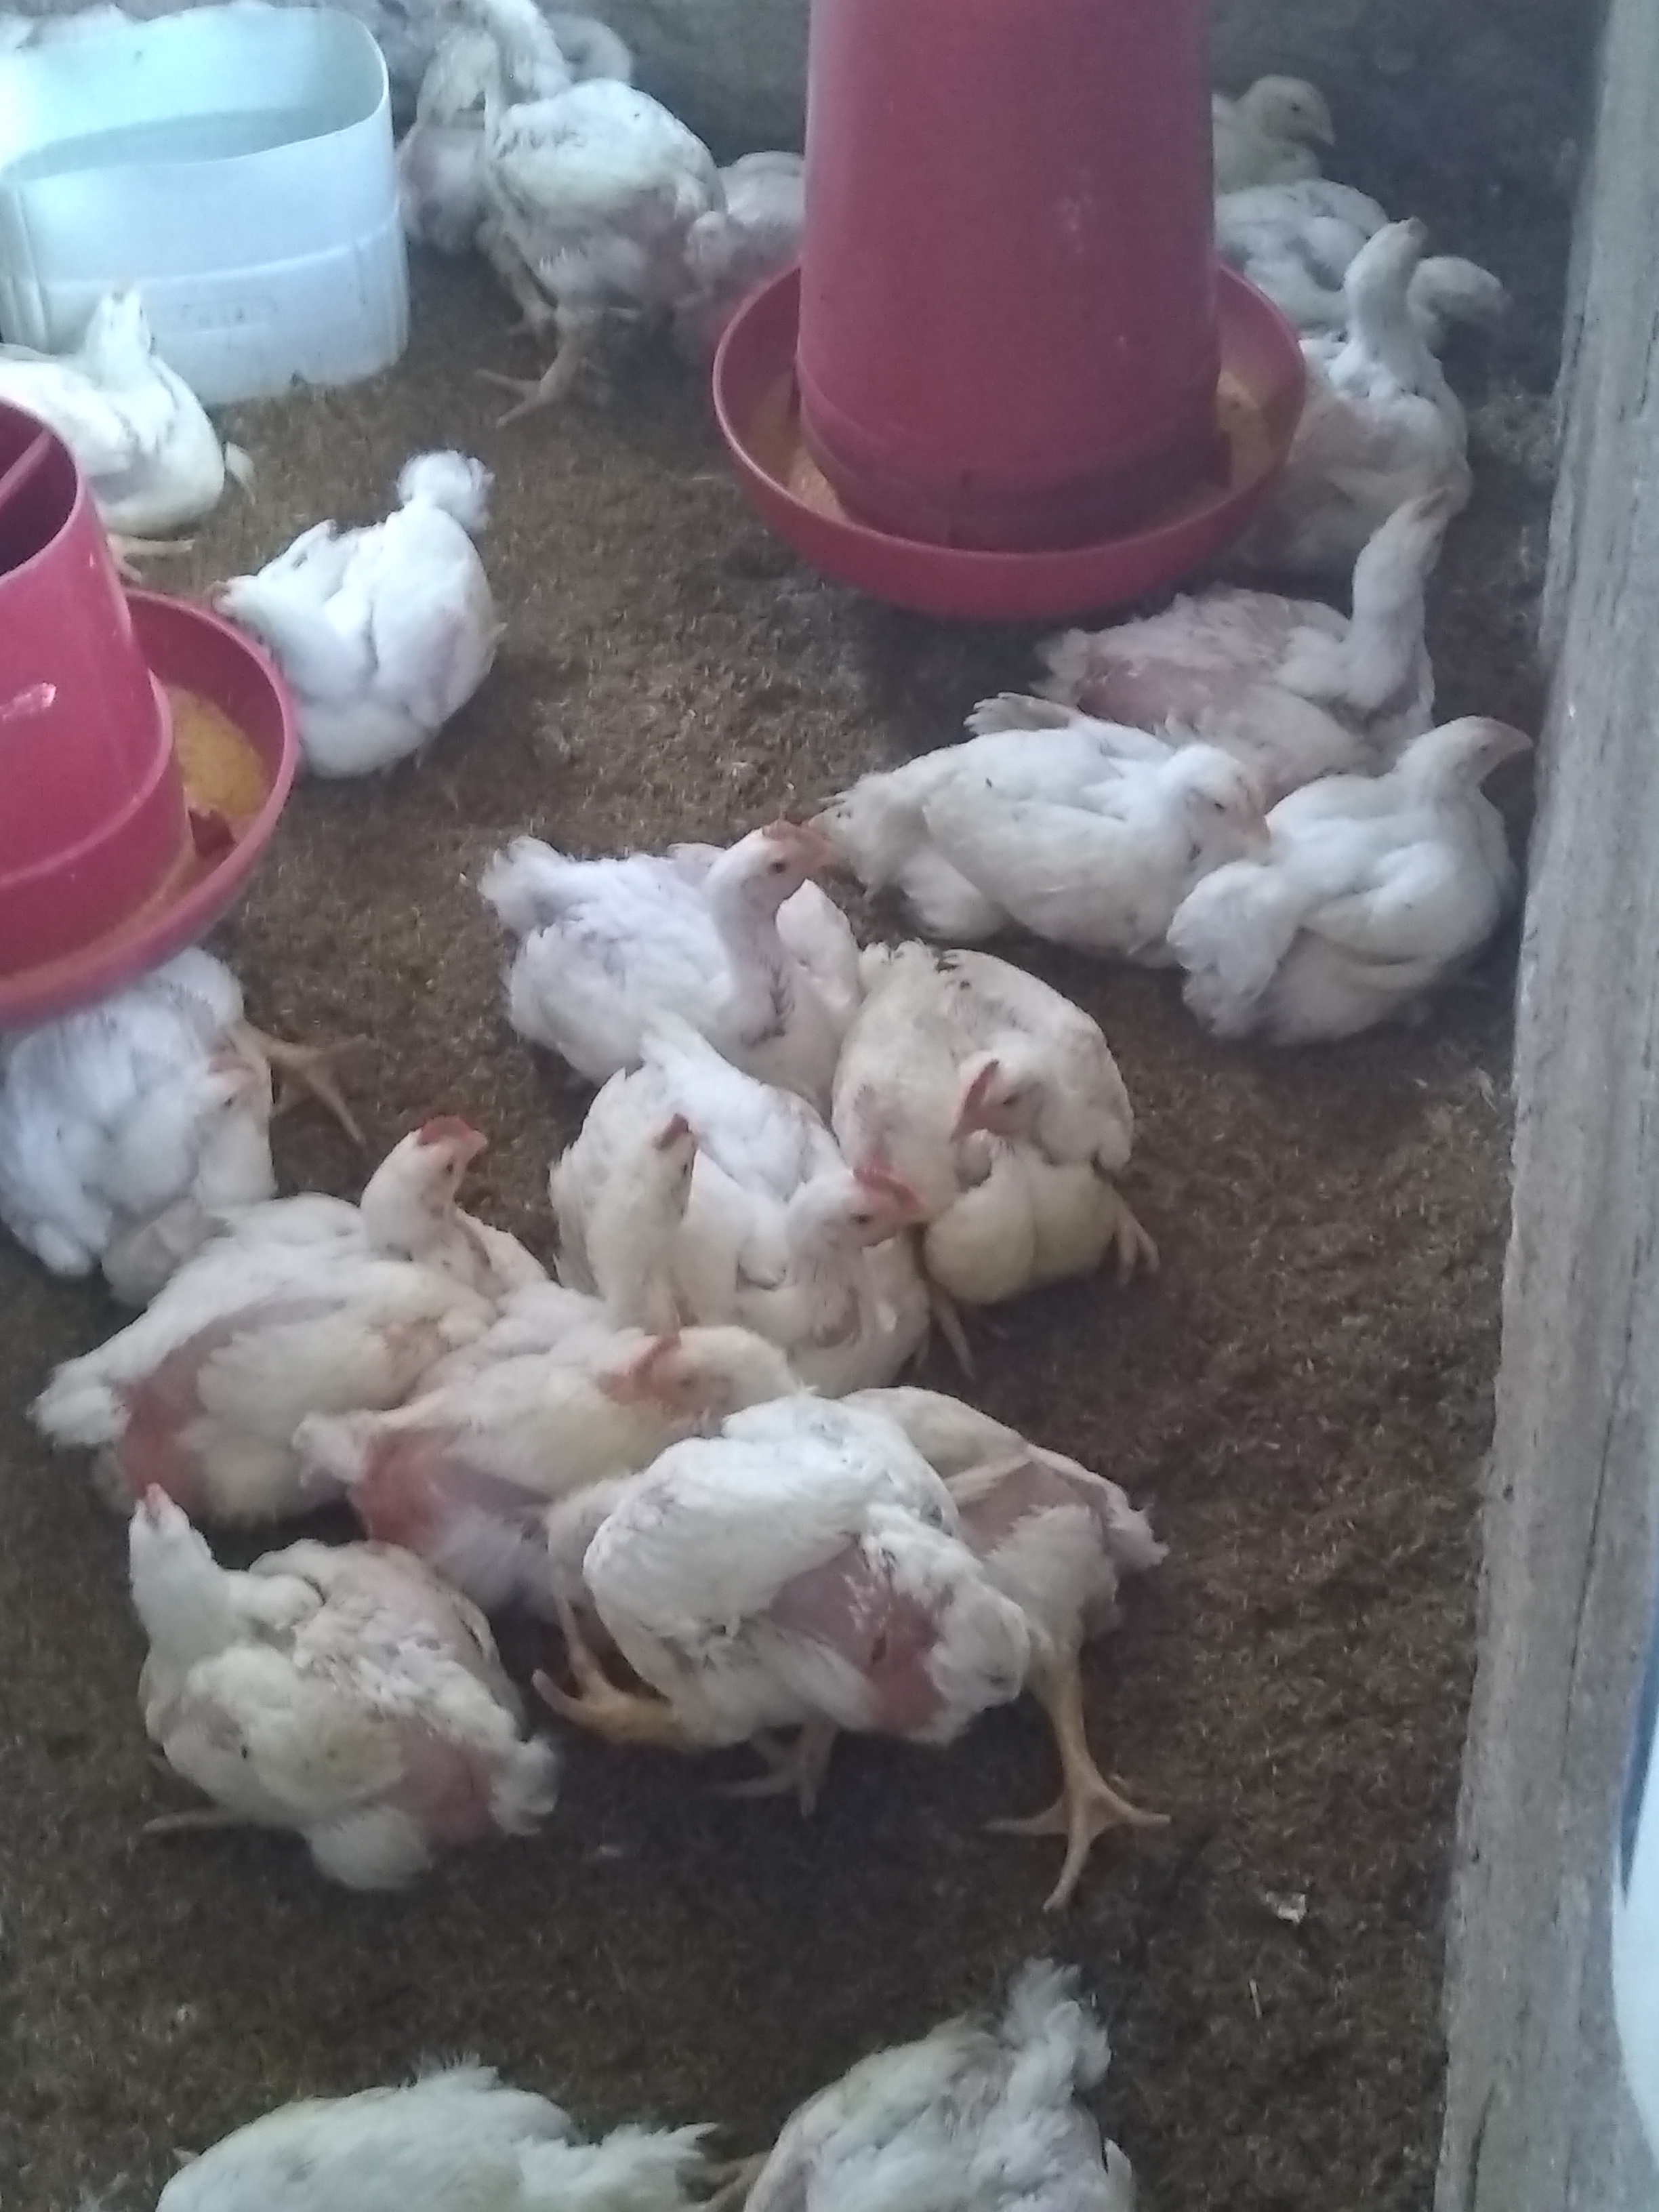Pollos: (615, 1320, 1155, 1818), (68, 1460, 582, 1897), (756, 1946, 1227, 2212), (131, 2003, 704, 2212), (3, 958, 331, 1259), (509, 810, 911, 1052), (179, 500, 514, 766), (1150, 486, 1488, 723), (903, 690, 1265, 906), (0, 277, 267, 543), (1286, 709, 1534, 995), (497, 87, 716, 397), (911, 1000, 1169, 1207), (1305, 190, 1438, 442), (354, 1082, 525, 1271), (737, 1144, 965, 1285), (601, 1087, 742, 1280), (1188, 38, 1344, 174), (1406, 246, 1532, 354), (455, 3, 596, 85)
